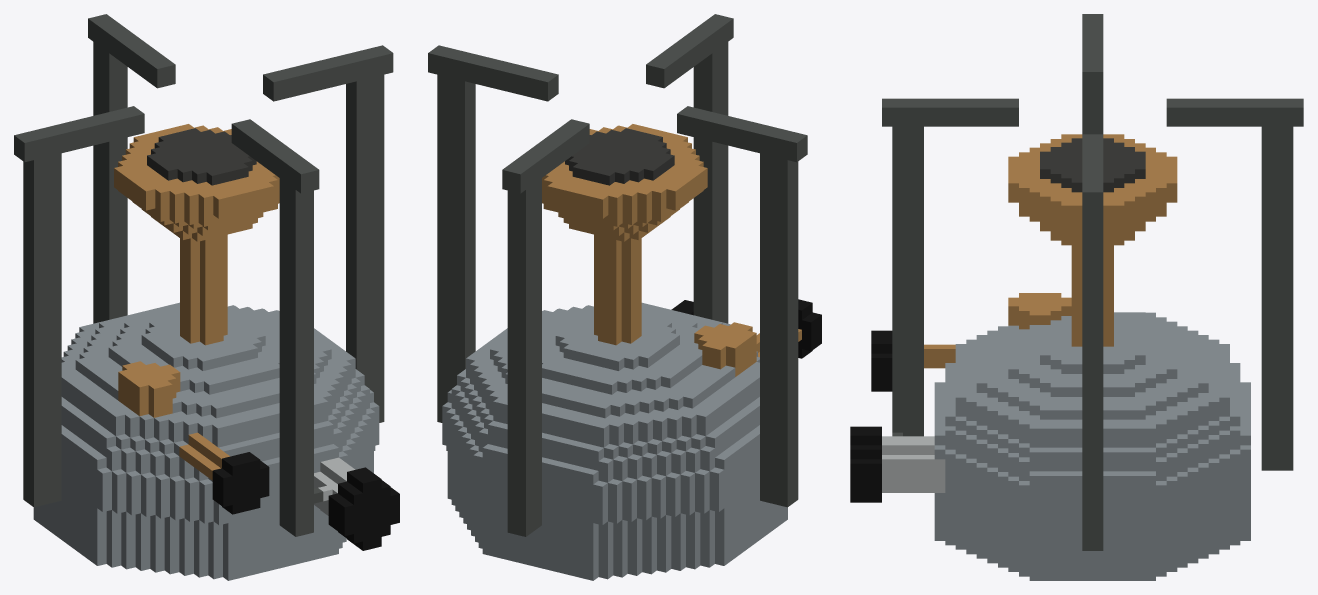
File: oil_cooker.glb
3 renders of one model, left to right at view 1: azimuth 30°, elevation 25°; view 2: azimuth 150°, elevation 25°; view 3: azimuth 270°, elevation 25°, orthographic.
Parts seen in each view (by area): view 1: oil_cooker:compound; view 2: oil_cooker:compound; view 3: oil_cooker:compound.
Boxes of the visible parts, x1,y1,x2,y2 form: oil_cooker:compound: [14, 14, 399, 580]; oil_cooker:compound: [428, 14, 821, 580]; oil_cooker:compound: [850, 14, 1303, 580].
Size of the model in its own units: 0.16 by 0.172 by 0.172.
